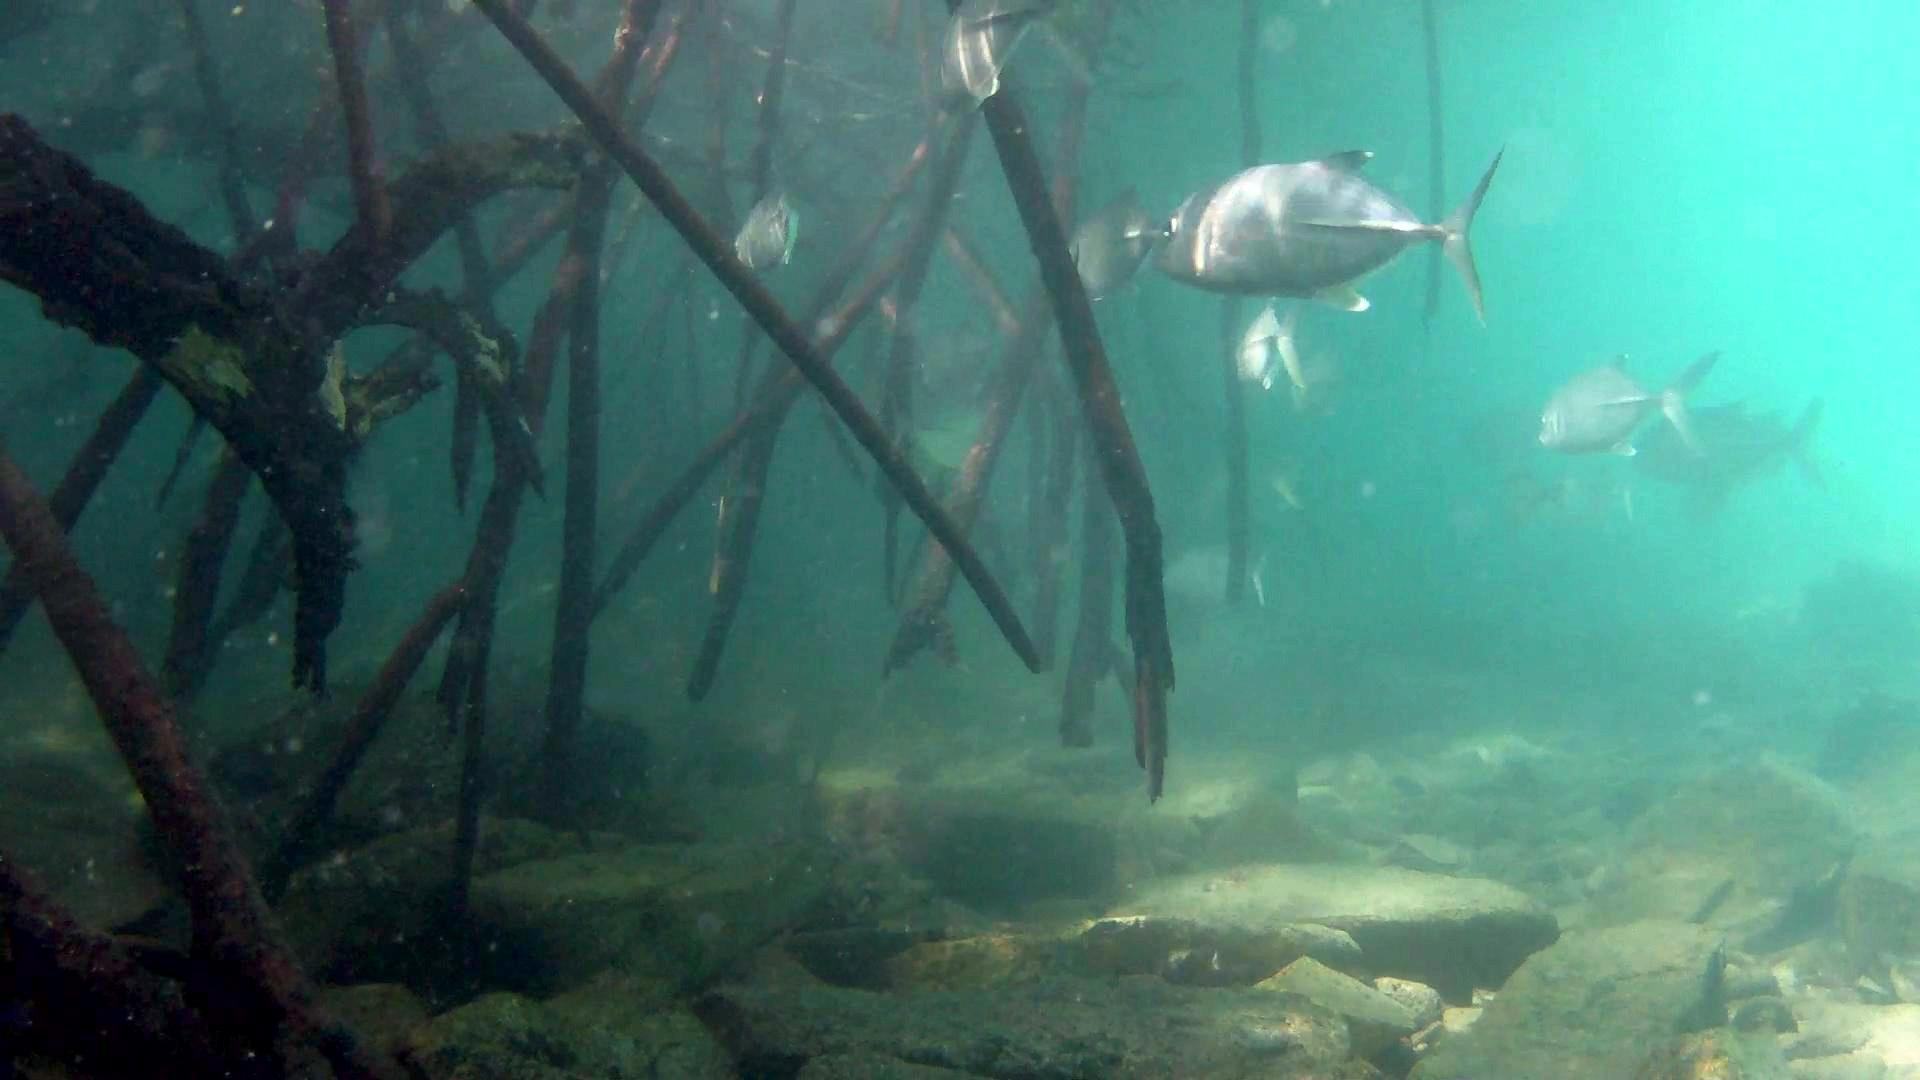caranx: (1141, 131, 1527, 334)
